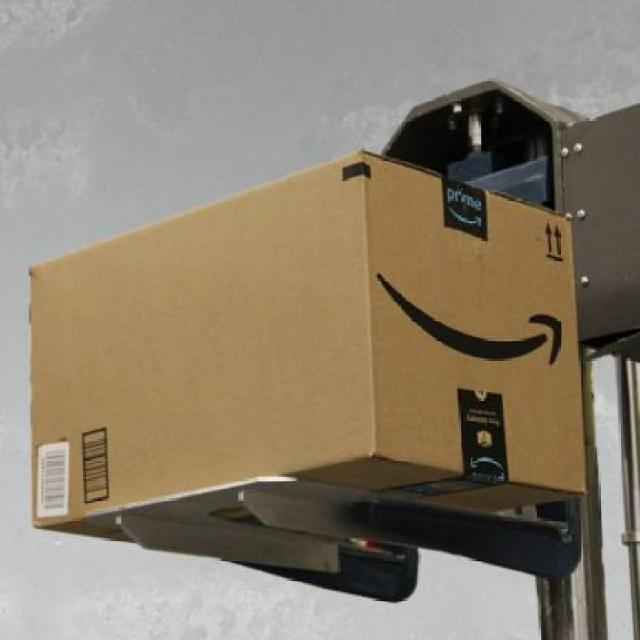cardboxes: (28, 148, 583, 544)
